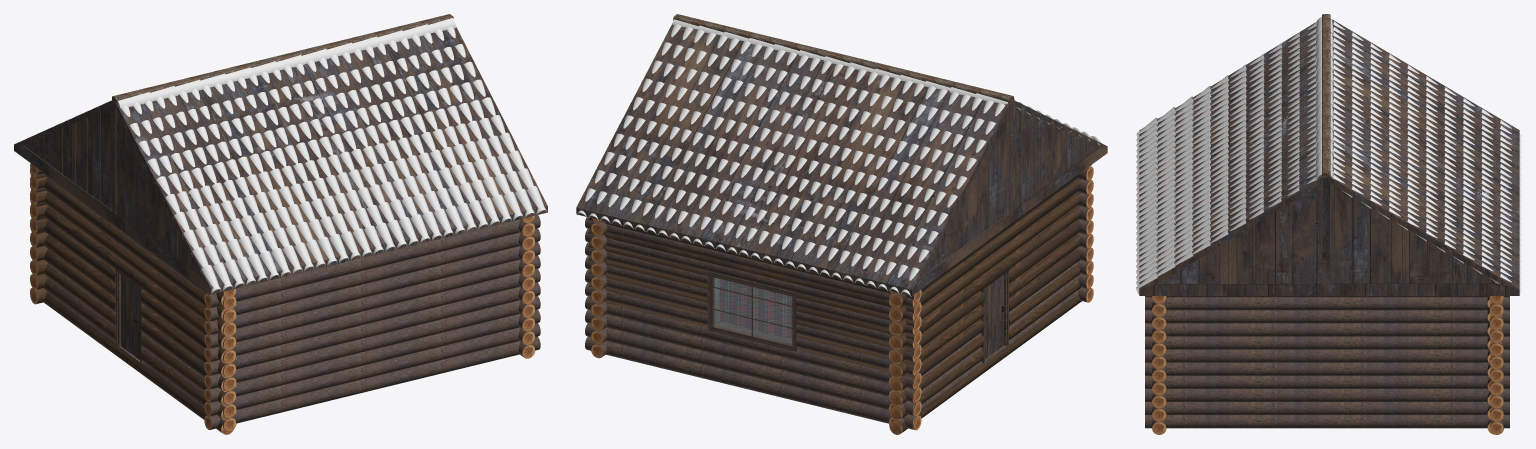
Rendered from cabaña.fbx.
3 renders of one model, left to right at view 1: azimuth 30°, elevation 25°; view 2: azimuth 150°, elevation 25°; view 3: azimuth 270°, elevation 25°, orthographic. The views are drawn at different scales.
Visible parts, largest first — view 1: Cylinder.006, Cylinder.003, tronco, Cylinder, Cube.004, Cube.002, Cylinder.007, Cylinder.005, Cylinder.008, Cube.007, Cylinder.002, Puerta.002 (+1 smaller); view 2: tronco, Cylinder.001, Cylinder.004, Cylinder, Cylinder.002, Cube.004, Cube.002, Ventana.001, Cylinder.007, Plane, Ventana, Cube.007 (+5 smaller); view 3: tronco, Cylinder.008, Cylinder.006, Cylinder.004, Cube.006, Cube.005, Cylinder.003, Cylinder.001, Cylinder.005, Cube.007, Cylinder.002.
Part boxes in pixels (<box>): Cylinder.006: <box>121,27,546,293</box>; Cylinder.003: <box>204,215,540,429</box>; tronco: <box>14,26,547,294</box>; Cylinder: <box>44,173,234,434</box>; Cube.004: <box>24,106,112,210</box>; Cube.002: <box>116,110,201,275</box>; Cylinder.007: <box>45,175,236,431</box>; Cylinder.005: <box>117,18,456,108</box>; Cylinder.008: <box>518,215,535,358</box>; Cube.007: <box>112,14,453,103</box>; Cylinder.002: <box>30,163,48,304</box>; Puerta.002: <box>121,275,140,359</box>; tronco: <box>576,23,1107,295</box>; Cylinder.001: <box>585,217,919,429</box>; Cylinder.004: <box>577,24,1005,296</box>; Cylinder: <box>889,174,1081,434</box>; Cylinder.002: <box>588,217,921,430</box>; Cube.004: <box>922,110,1009,276</box>; Cube.002: <box>1013,106,1097,209</box>; Ventana.001: <box>714,278,792,343</box>; Cylinder.007: <box>888,176,1078,425</box>; Plane: <box>720,279,791,338</box>; Ventana: <box>708,271,798,351</box>; Cube.007: <box>673,14,1013,102</box>; tronco: <box>1139,19,1519,295</box>; Cylinder.008: <box>1145,296,1509,428</box>; Cylinder.006: <box>1136,22,1316,294</box>; Cylinder.004: <box>1333,21,1521,294</box>; Cube.006: <box>1330,183,1497,283</box>; Cube.005: <box>1158,183,1322,283</box>; Cylinder.003: <box>1152,296,1166,434</box>; Cylinder.001: <box>1489,296,1503,434</box>; Cylinder.005: <box>1315,17,1333,180</box>; Cube.007: <box>1322,14,1330,177</box>; Cylinder.002: <box>1487,296,1502,434</box>.
Bounding box in the file's own units: 1348 × 1046 × 1378.
Materials: 13 (11 with a texture image).
